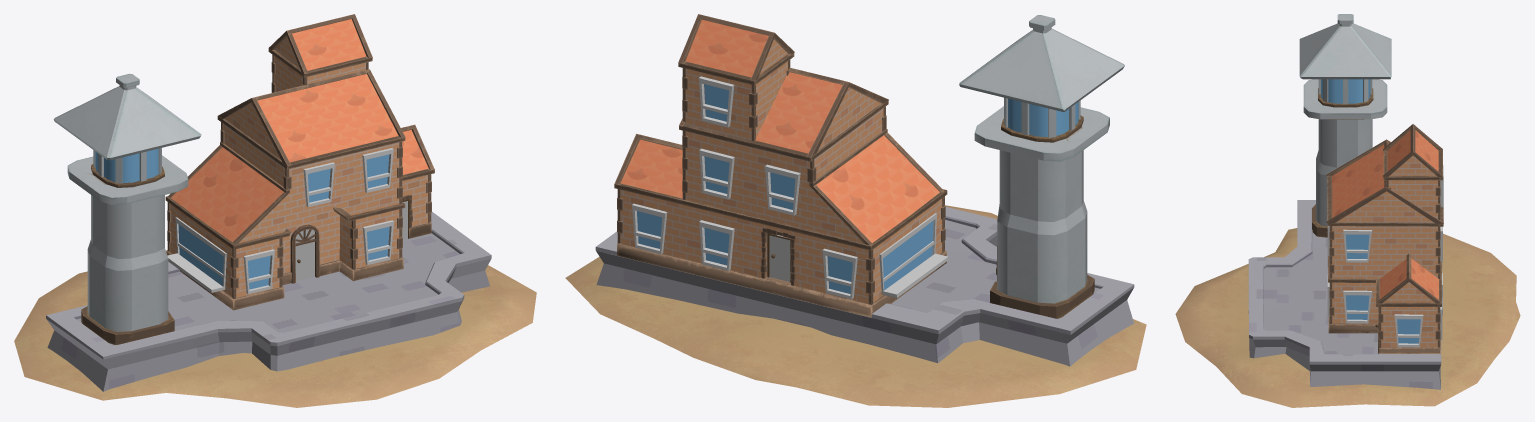
3 renders of one model, left to right at view 1: azimuth 30°, elevation 25°; view 2: azimuth 150°, elevation 25°; view 3: azimuth 270°, elevation 25°, orthographic. The views are drawn at different scales.
Parts seen in each view (by area): view 1: House_blockout, Floor, Sand, Lighthosue, Lower_part, bigger_window_bottom, Lower_level, Lower_plank, Doorway, window_2_middle, window_2_bottom, Window_1_middle (+5 smaller); view 2: House_blockout, Sand, Lighthosue, Floor, Lower_part, Lower_level, bigger_window_bottom, Lower_plank, little_bar7, window_6_bottom, window_4_middle, window_1_top (+5 smaller); view 3: Sand, House_blockout, Floor, Lighthosue, Lower_part, Lower_plank, Lower_level, Lower_plank2, window_4_bottom, window_3_bottom, window_3_middle, Left_front_plank2 (+1 smaller).
Part boxes in pixels (box(x1,y1,x2,y2)): House_blockout: box(170, 19, 428, 297); Floor: box(46, 212, 491, 391); Sand: box(14, 251, 536, 407); Lighthosue: box(53, 73, 201, 344); Lower_part: box(166, 222, 431, 310); bigger_window_bottom: box(167, 217, 226, 292); Lower_level: box(165, 168, 434, 249); Lower_plank: box(217, 116, 405, 169); Doorway: box(295, 229, 314, 281); window_2_middle: box(362, 148, 393, 192); window_2_bottom: box(362, 220, 394, 264); Window_1_middle: box(303, 162, 334, 207); House_blockout: box(620, 19, 942, 303); Sand: box(565, 205, 1146, 407); Lighthosue: box(959, 15, 1124, 318); Floor: box(595, 207, 1134, 366); Lower_part: box(617, 243, 946, 317); Lower_level: box(614, 183, 947, 250); bigger_window_bottom: box(879, 213, 948, 298); Lower_plank: box(679, 94, 888, 161); little_bar7: box(767, 233, 791, 282); window_6_bottom: box(699, 220, 734, 271); window_4_middle: box(699, 148, 734, 199); window_1_top: box(698, 76, 734, 127); Sand: box(1175, 228, 1520, 407); House_blockout: box(1332, 130, 1438, 347); Floor: box(1248, 200, 1441, 389); Lighthosue: box(1299, 14, 1391, 237); Lower_part: box(1328, 317, 1440, 353); Lower_plank: box(1327, 176, 1443, 226); Lower_level: box(1328, 256, 1441, 306); Lower_plank2: box(1383, 150, 1442, 180); window_4_bottom: box(1394, 314, 1423, 347); window_3_bottom: box(1343, 290, 1371, 323); window_3_middle: box(1343, 229, 1371, 262); Left_front_plank2: box(1326, 186, 1386, 225).
Size of the model in its own units: 26.97 by 15.47 by 20.45.
Materials: 9 (9 with a texture image).
